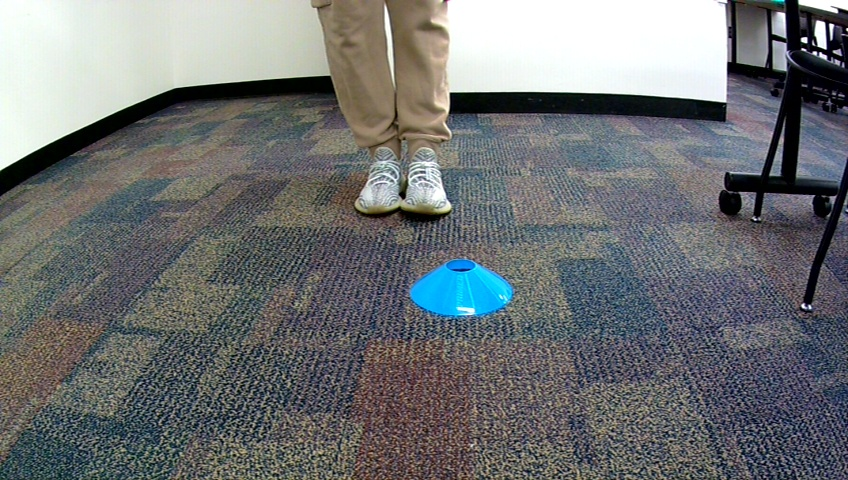cone: (407, 258, 515, 319)
